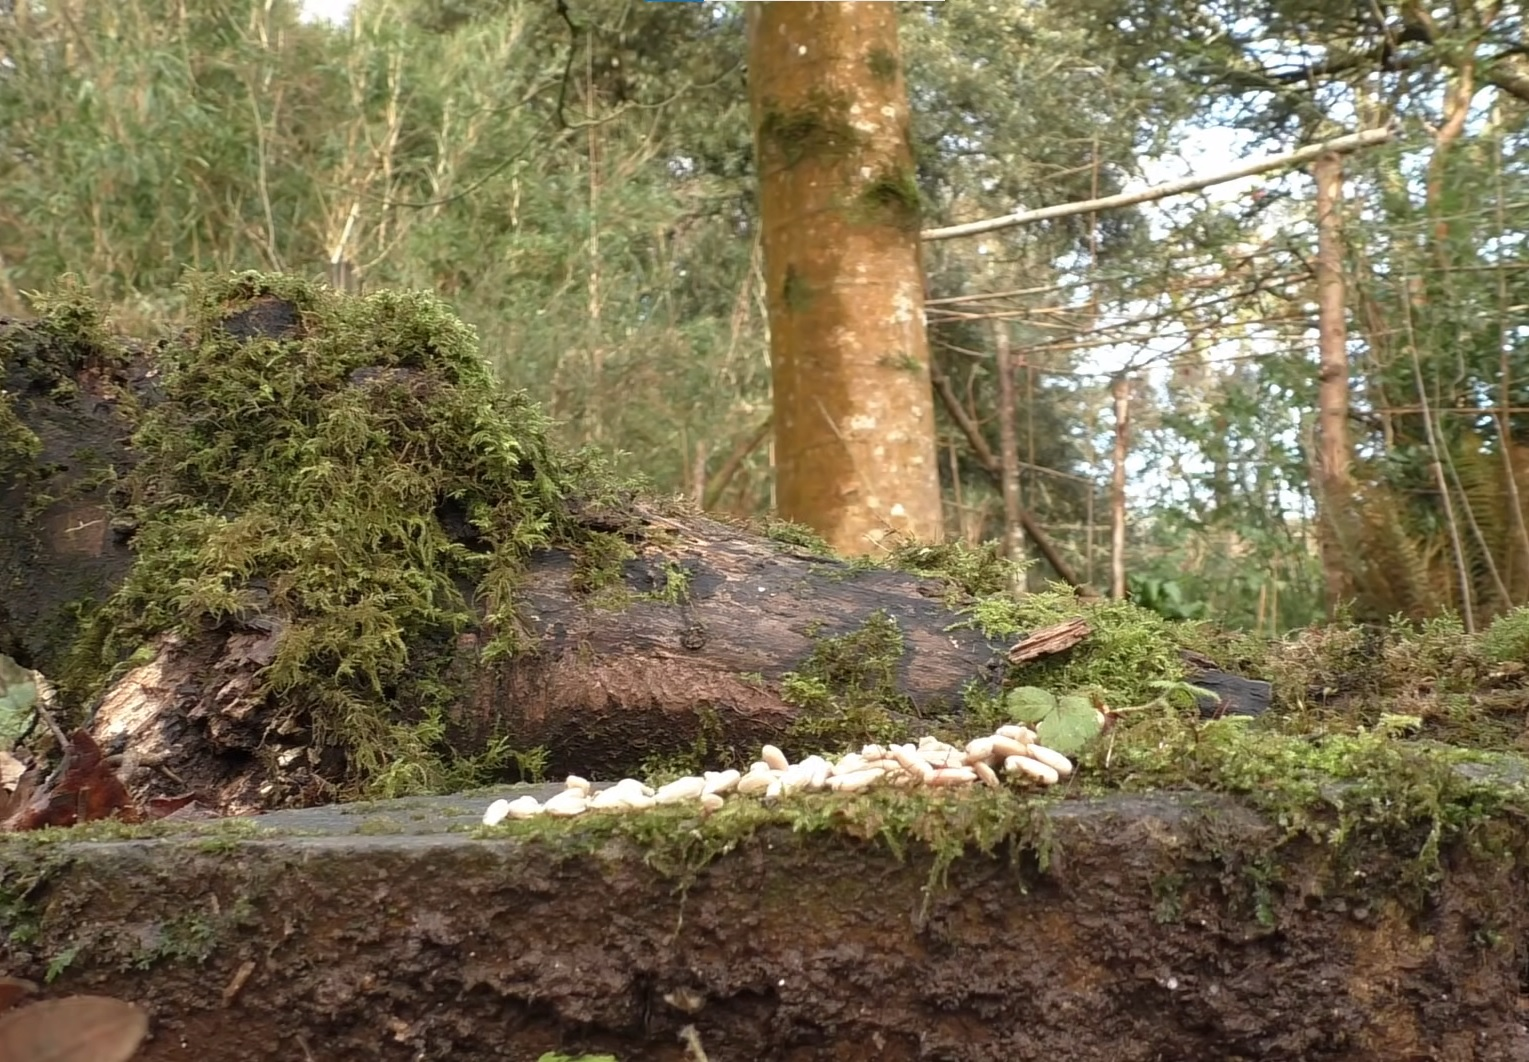seed: (468, 710, 1101, 827)
